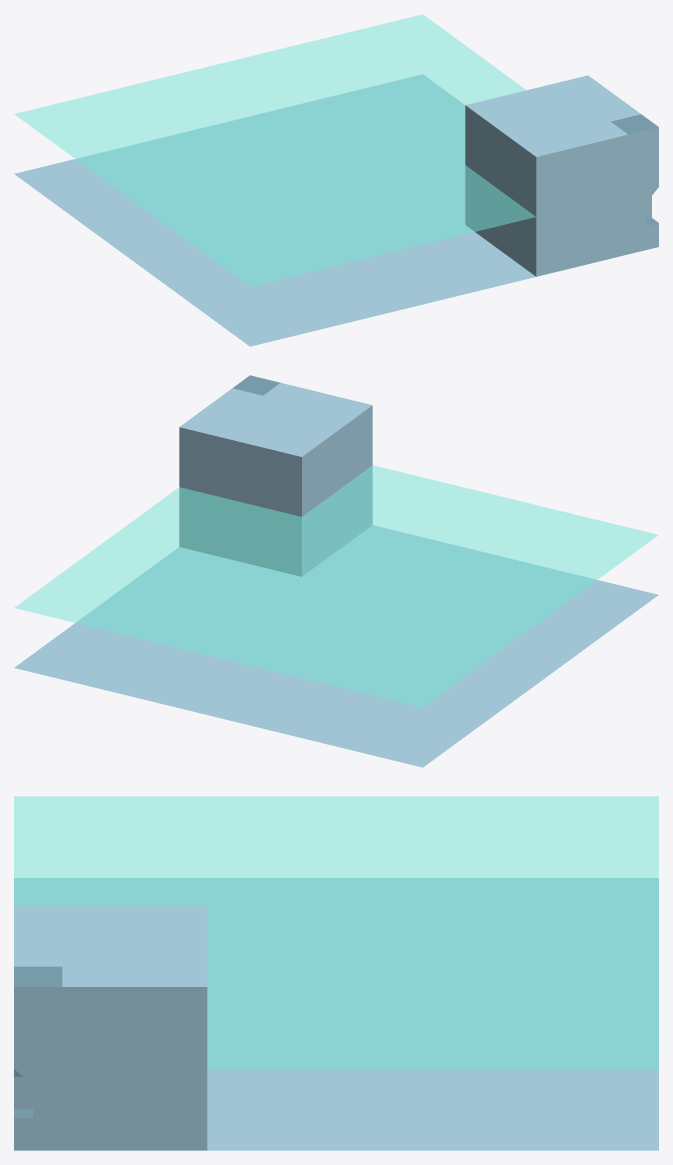
Rendered from fountainCornerInnerSquare.glb.
The picture shows the model from 3 angles, top to bottom: view 1: azimuth 30°, elevation 25°; view 2: azimuth 150°, elevation 25°; view 3: azimuth 270°, elevation 25°; orthographic projection. The views are drawn at different scales.
Parts seen in each view (by area): view 1: fountainCornerInnerSquare; view 2: fountainCornerInnerSquare; view 3: fountainCornerInnerSquare.
Boxes of the visible parts, bbox=[...] form: fountainCornerInnerSquare: bbox=[14, 14, 658, 346]; fountainCornerInnerSquare: bbox=[14, 375, 658, 767]; fountainCornerInnerSquare: bbox=[14, 796, 658, 1150].
Bounding box in the file's own units: 3 × 0.84 × 3.
